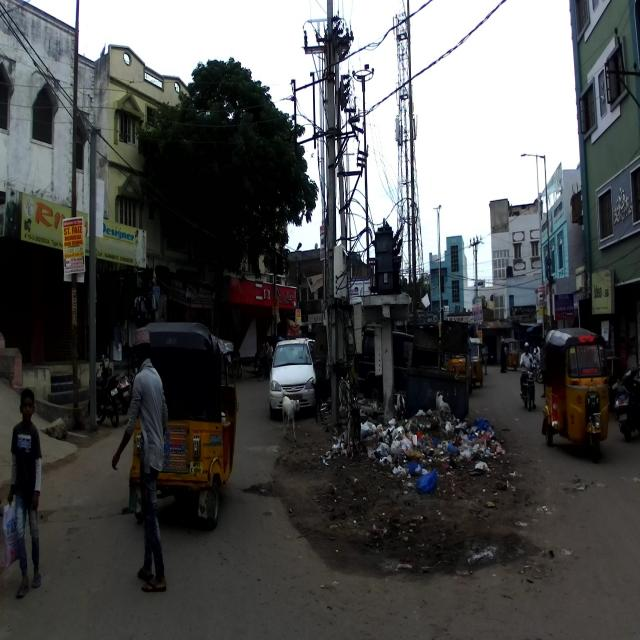Car_Mahindra: (357, 327, 424, 401)
Car_TATA: (268, 333, 318, 419)
autorickshaw: (128, 320, 240, 532), (540, 327, 609, 461)
motorcycle_Hero: (88, 365, 118, 426)
scooter: (102, 352, 130, 416)
